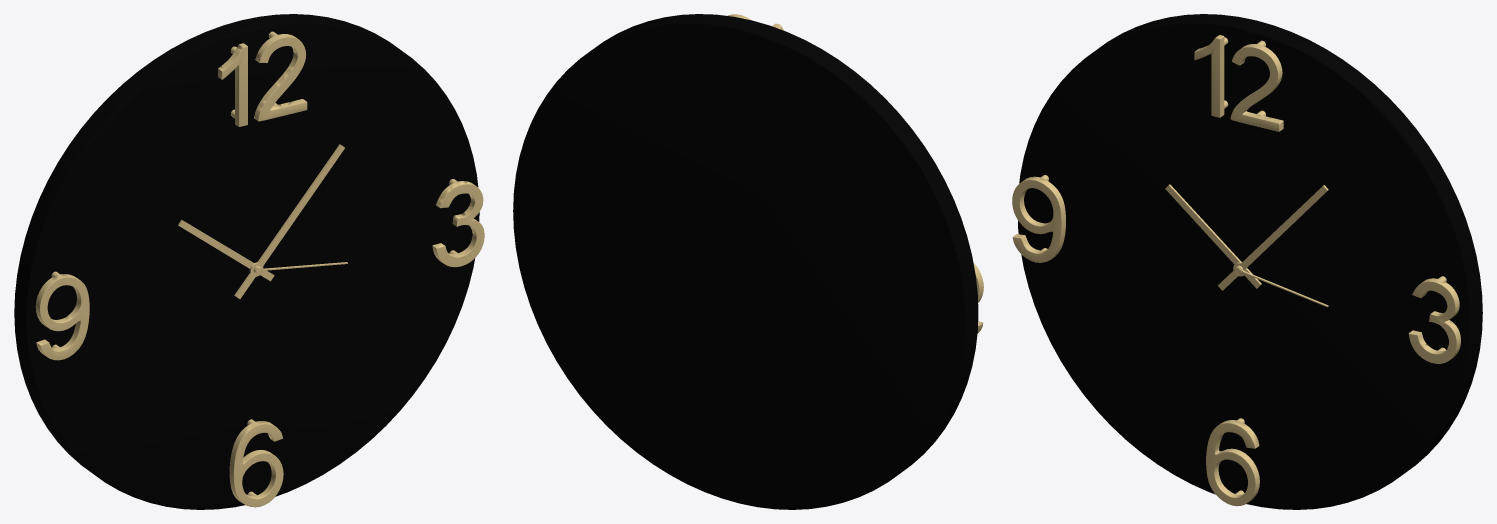
The model's file is B07B8PXMRT.glb.
3 renders of one model, left to right at view 1: azimuth 30°, elevation 25°; view 2: azimuth 150°, elevation 25°; view 3: azimuth 330°, elevation 25°, orthographic.
Visible parts, largest first — view 1: RootNode; view 2: RootNode; view 3: RootNode.
Part boxes in pixels (x1=…): RootNode: x1=14, y1=14, x2=484, y2=509; RootNode: x1=513, y1=14, x2=983, y2=509; RootNode: x1=1012, y1=14, x2=1482, y2=509.
Size of the model in its own units: 0.4539 by 0.4539 by 0.0377.
1 material, 1 textured.
